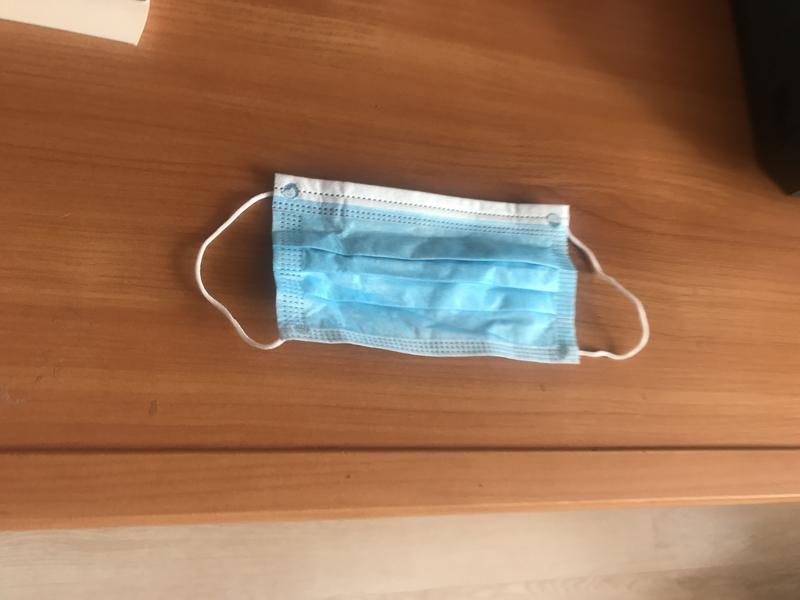medical_mask: (195, 173, 649, 365)
